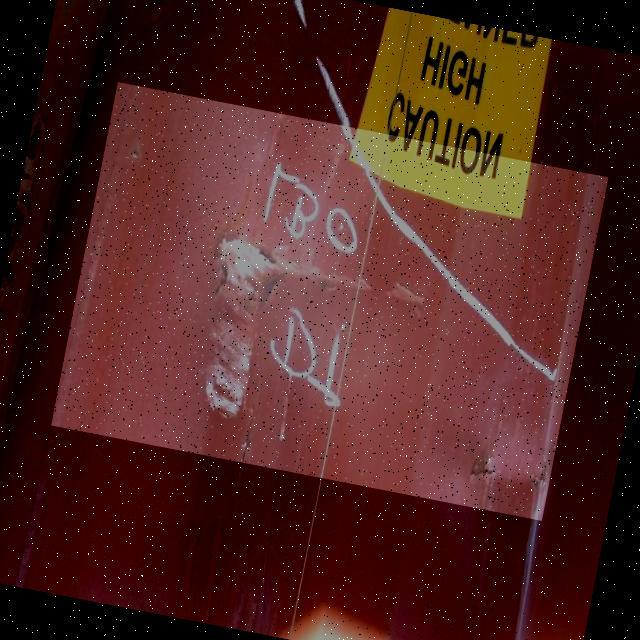Dent: (51, 80, 609, 521)
